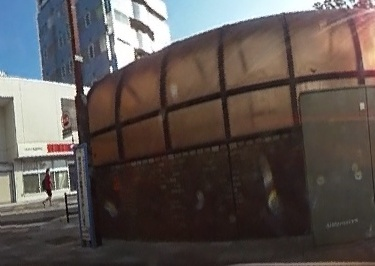person: (42, 167, 55, 204)
